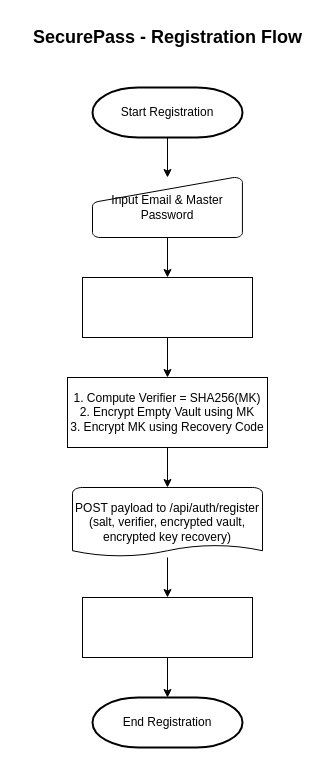
This 334x765 diagram has some shape labels left out. Here are the shapes that lost their labels. From the top down, the box of each, then its label:
(82, 276, 252, 338): Generate 64-byte Salt & derive Master Key (MK) via PBKDF2 (600,000 iter)
(82, 596, 252, 658): Server hashes Verifier with Bcrypt & stores in Database
